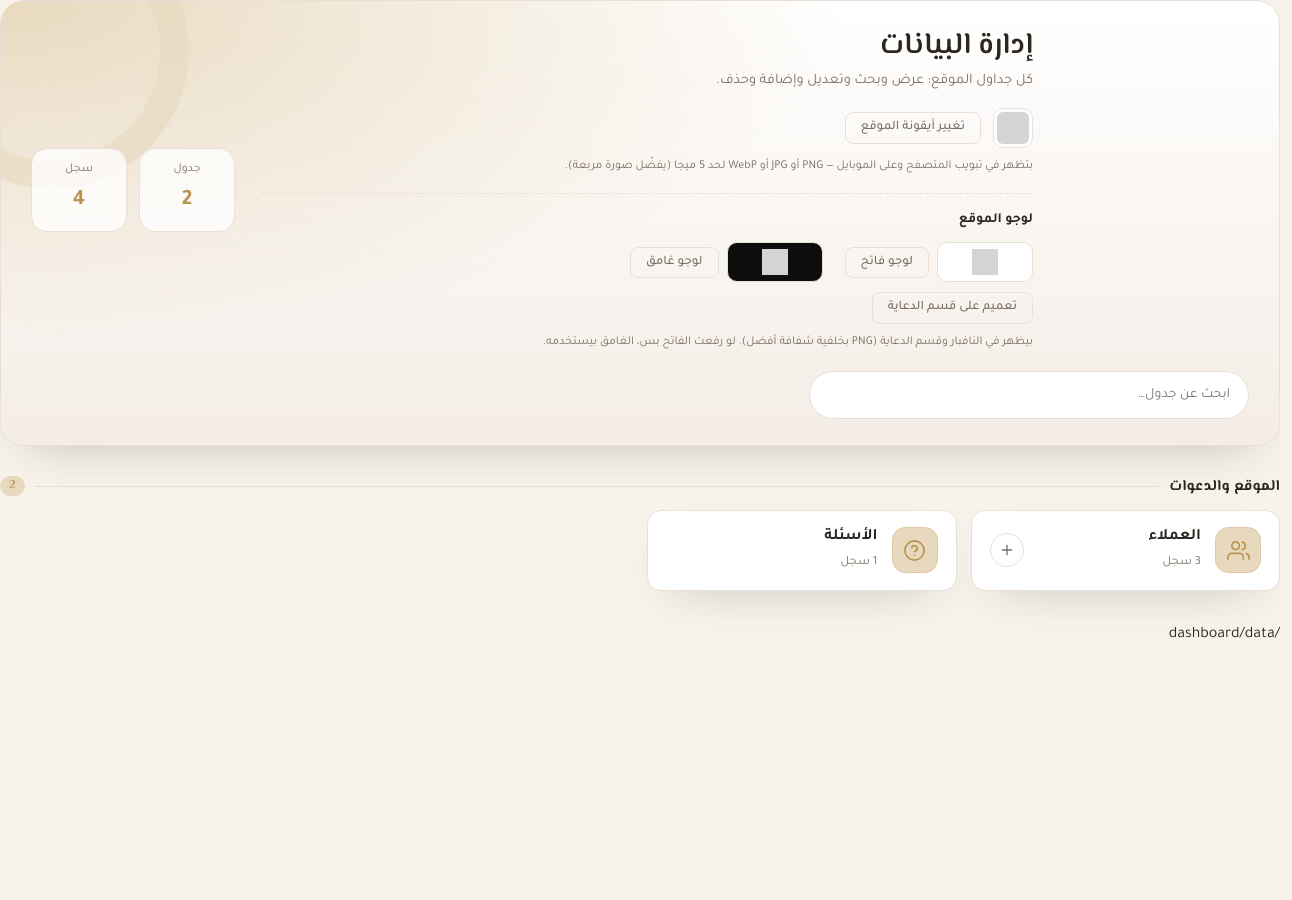
Scenario: data admin home › lists the tables by app, filters them, and links to list and add
This screenshot has width=1292, height=900.
Expected: the text "العملاء" is shown, 1148,527 -> 1201,549
Expected: the text "3 سجل" is shown, 1162,556 -> 1201,568
Type "أسئلة" into the search field labelled "ابحث عن جدول…" at (1029, 395), box 809,371 -> 1249,420
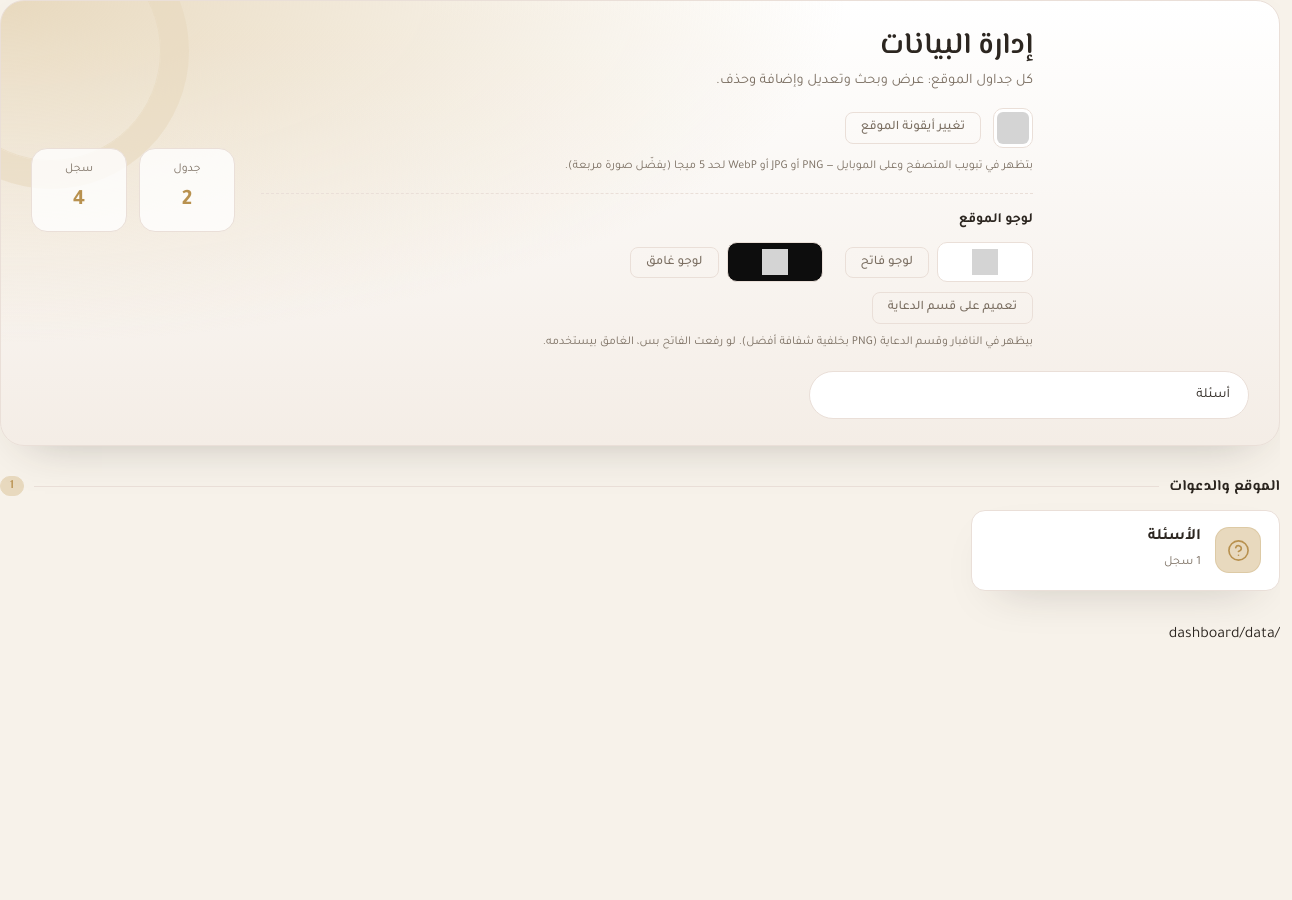
Expected: the text "الأسئلة" is shown, 1148,527 -> 1201,549
Expected: the link "العملاء" is gone
